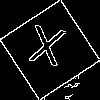X: (25, 25, 67, 76)
